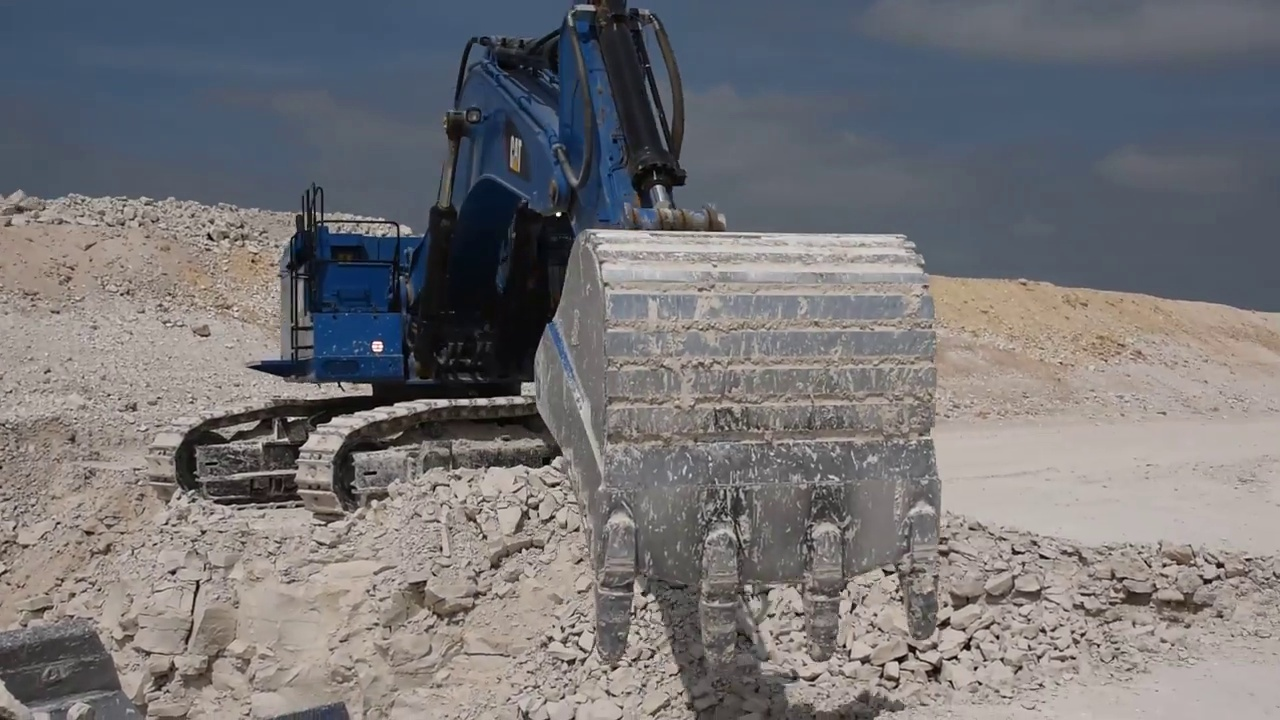excavator: (148, 6, 948, 656)
